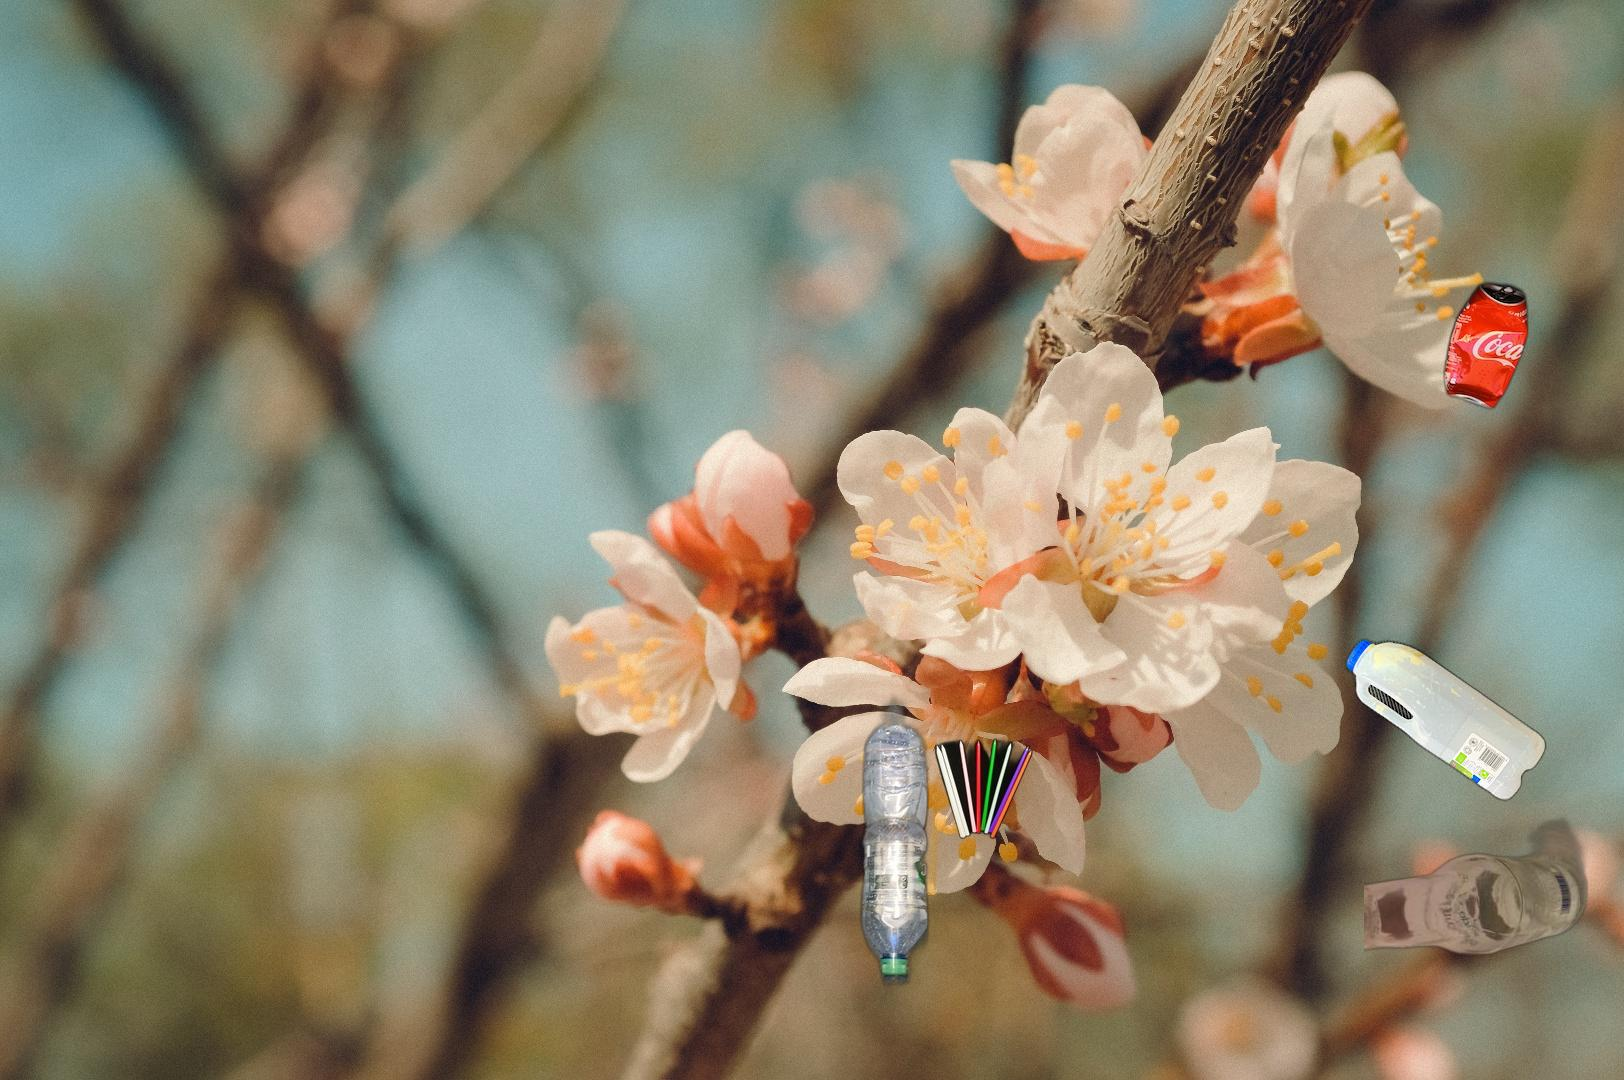glass: (1364, 806, 1623, 959)
metal-cans: (1440, 277, 1532, 415)
penholder: (904, 727, 1035, 849)
plastic-bottles: (1341, 633, 1551, 806), (857, 689, 932, 998)
